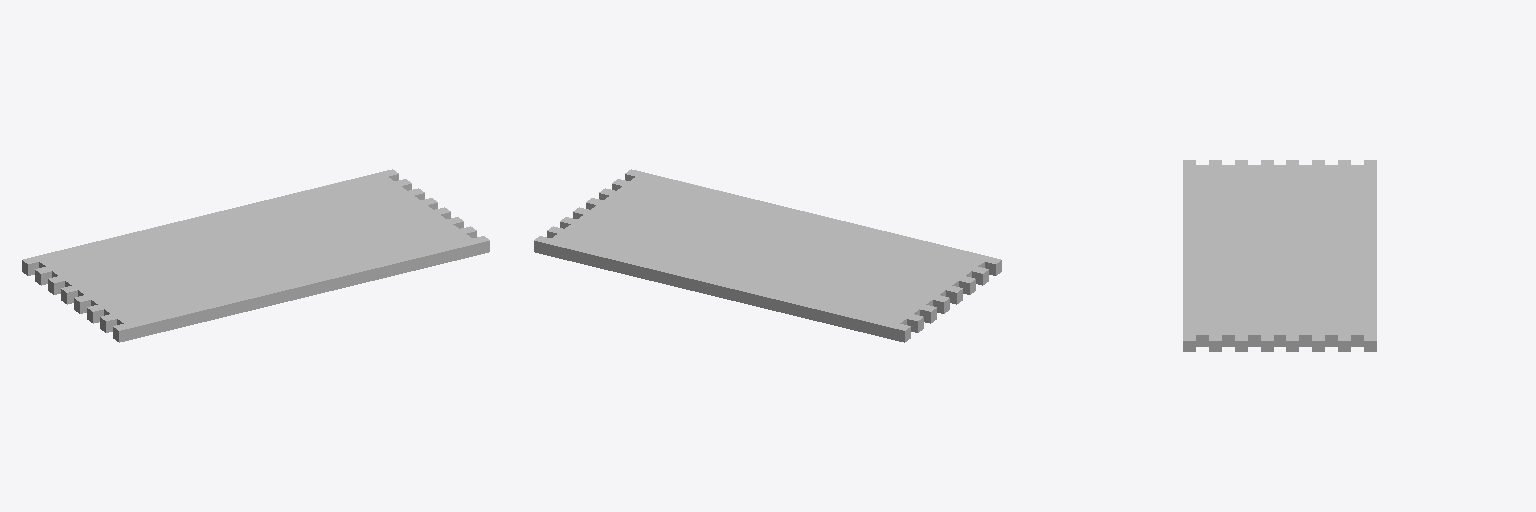
File: carpet.obj
The picture shows the model from 3 angles: view 1: azimuth 30°, elevation 25°; view 2: azimuth 150°, elevation 25°; view 3: azimuth 270°, elevation 25°; orthographic projection.
Bounding box in the file's own units: 1.65 × 0.05 × 0.75.